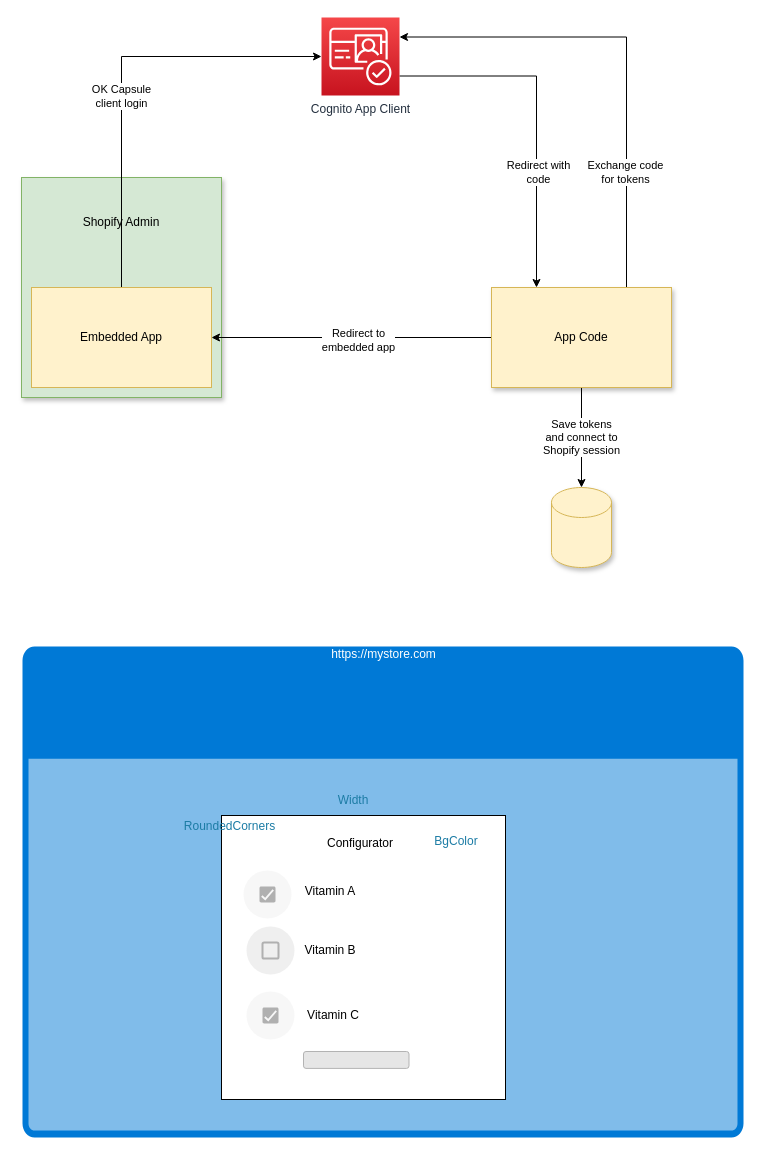
Some shapes in this 761 by 1155 pixel diagram are drawn without their labels. Here are the shapes that lost their labels. From the top down, the centre of each, then its label:
the point at 582,528: DB
the point at 355,1059: Add To Cart
